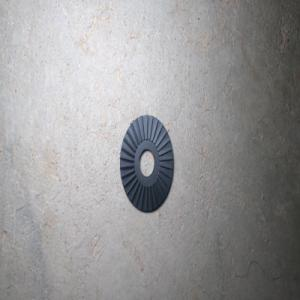Washer: (119, 114, 173, 212)
